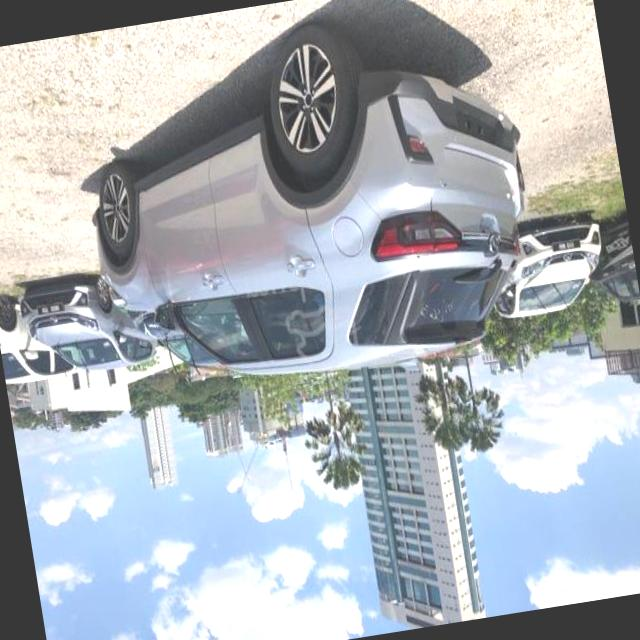PeroduaAtiva: (65, 0, 554, 408)
